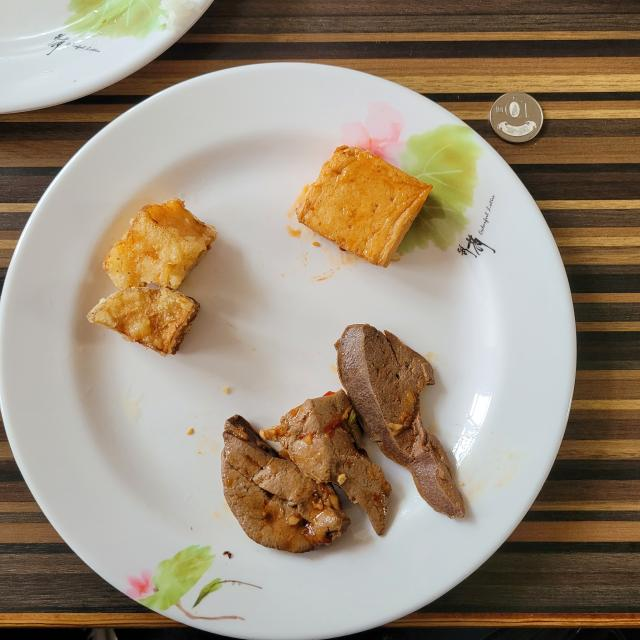coin: (489, 91, 544, 142)
creamy tofu: (296, 145, 432, 268)
fried potato: (88, 199, 218, 355)
pig liver: (221, 325, 465, 552)
